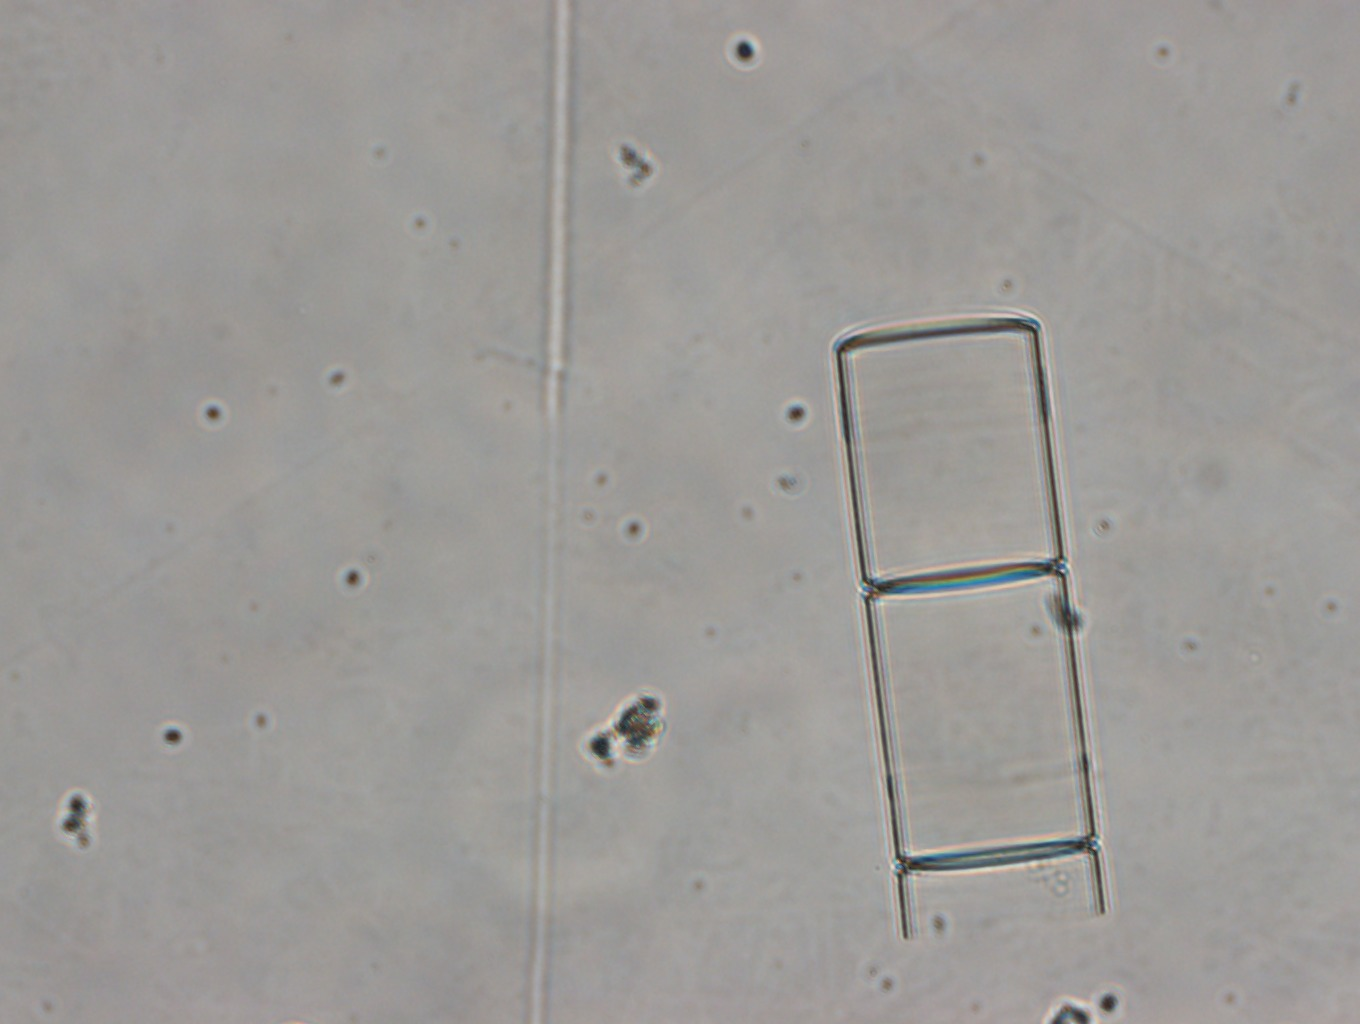guinardia flaccida: (838, 307, 1106, 944)
